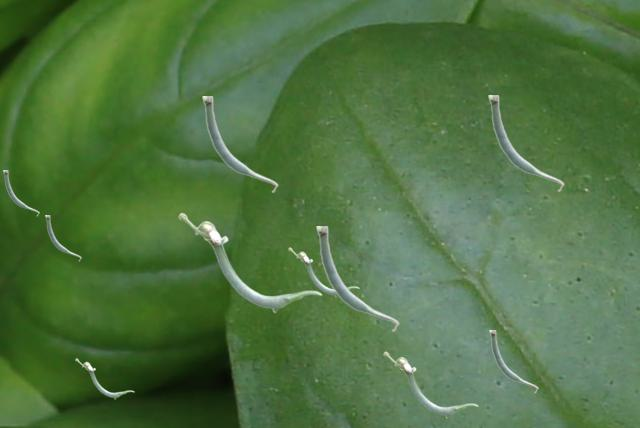french_bean: (178, 212, 321, 312), (316, 226, 398, 331), (202, 96, 277, 192), (488, 95, 563, 191), (383, 351, 477, 417), (288, 247, 358, 296), (489, 330, 537, 392), (75, 358, 133, 398), (3, 170, 38, 215), (45, 215, 80, 260)
